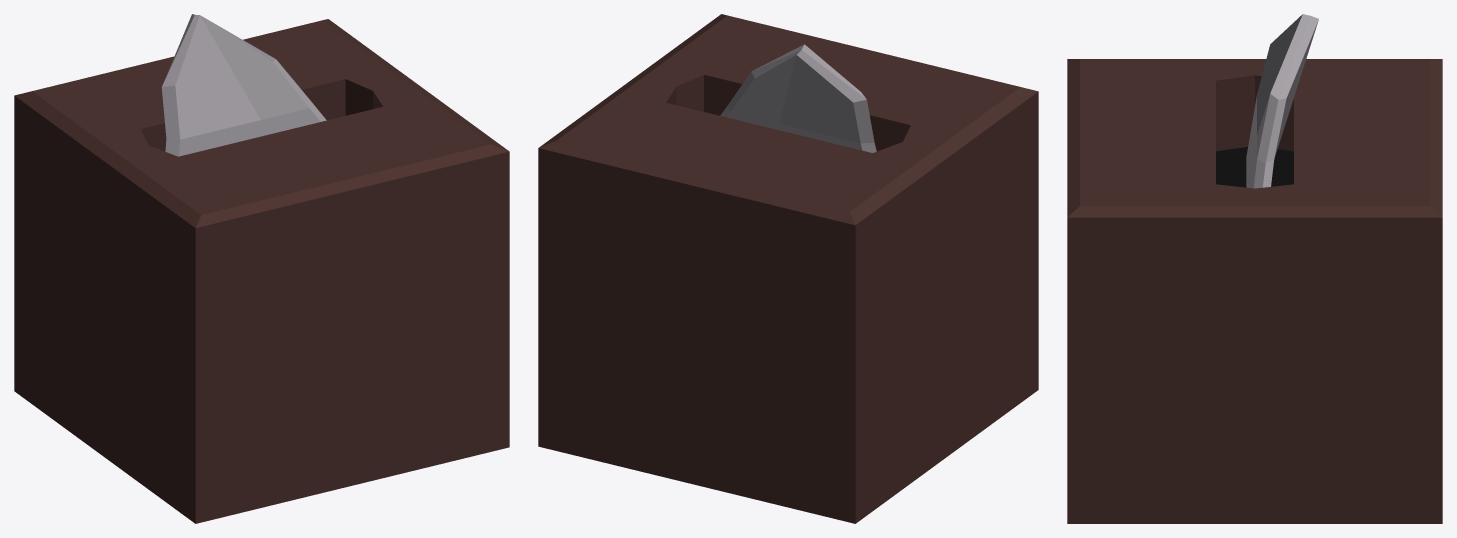
Rendered from Tissue-Box-Bathroom-Hotel_01.fbx.
The picture shows the model from 3 angles, left to right: view 1: azimuth 30°, elevation 25°; view 2: azimuth 150°, elevation 25°; view 3: azimuth 270°, elevation 25°; orthographic projection. The views are drawn at different scales.
Parts seen in each view (by area): view 1: TissueBox; view 2: TissueBox; view 3: TissueBox.
Boxes of the visible parts, x1,y1,x2,y2 form: TissueBox: (14,14,509,523); TissueBox: (538,14,1038,523); TissueBox: (1067,14,1442,523).
Size of the model in its own units: 0.1371 by 0.1656 by 0.1371.
